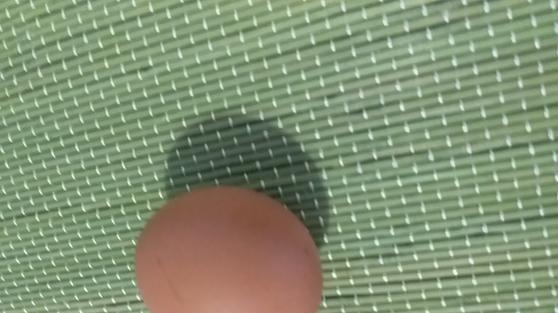egg: (131, 180, 329, 313)
